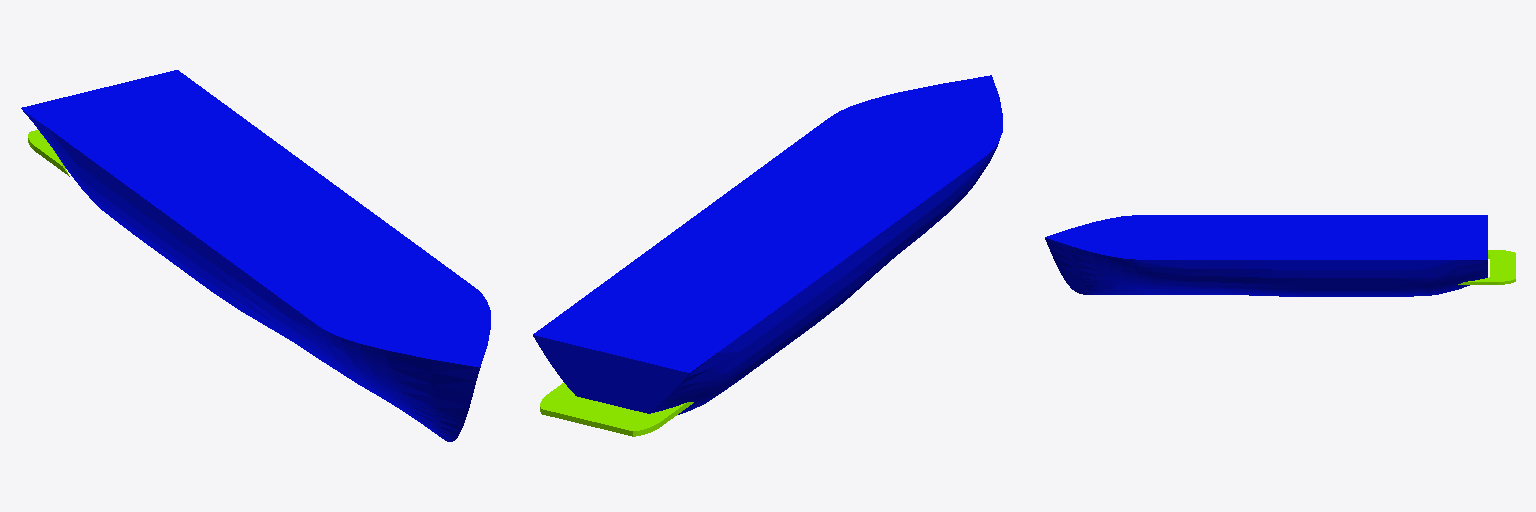
robot.urdf — myfirst:
<?xml version="1.0"?>
<robot name="myfirst">
  <link name="base_link">
    <visual>
      <origin rpy="0 0 0" xyz="0 0 -0.07"/>
      <geometry>
        <mesh filename="package://aauship/urdf/aauship-hull.dae" scale="0.1 0.1 0.1"/>
      </geometry>
    </visual>
  </link>
</robot>

--- Facts derived from the render (not from the file) ---
3 views of the same robot in one strip: view 1: azimuth 30°, elevation 25°; view 2: azimuth 150°, elevation 25°; view 3: azimuth 270°, elevation 25° (orthographic).
Model myfirst with 1 links and 0 joints (none), rooted at base_link, posed every joint at zero.
Visible links, largest first — view 1: base_link; view 2: base_link; view 3: base_link.
Boxes of the visible links, bbox=[...] form: base_link: bbox=[21, 70, 490, 441]; base_link: bbox=[533, 75, 1002, 436]; base_link: bbox=[1045, 215, 1515, 296].
Bounding box of the posed robot: 0.25 × 1.11 × 0.15 m (x, y, z).
Meshes: 1 distinct files referenced, 1 mesh visuals loaded (1 Collada DAE).
